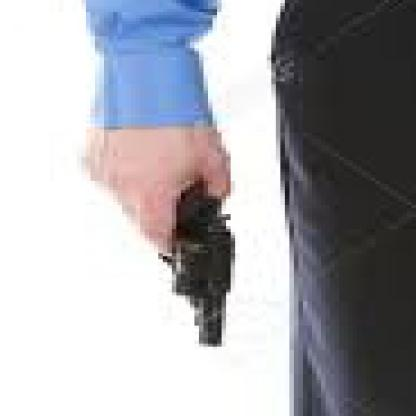gun: (127, 173, 249, 345)
